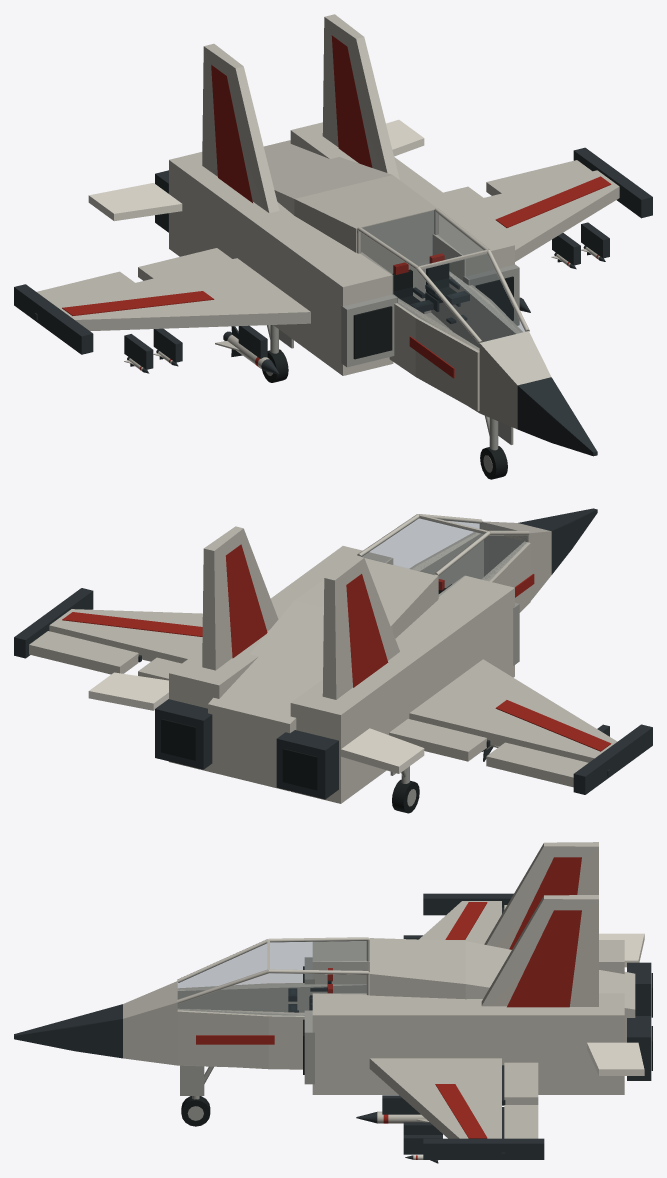
3 renders of one model, top to bottom at view 1: azimuth 30°, elevation 25°; view 2: azimuth 150°, elevation 25°; view 3: azimuth 270°, elevation 25°, orthographic. The views are drawn at different scales.
Parts seen in each view (by area): view 1: jet-c-painted, jet-c-glazing, elevator-left-fleet-armor, breakaway-0-painted, breakaway-1-painted, aileron-right-painted, flap-left-painted, aileron-left-painted, crew-chair-copilot-painted, crew-chair-pilot-painted, elevator-right-fleet-armor, store-left-large-painted (+1 smaller); view 2: jet-c-painted, jet-c-glazing, aileron-right-painted, aileron-left-painted, flap-left-painted, elevator-left-fleet-armor, breakaway-0-painted, elevator-right-fleet-armor, breakaway-1-painted, gear-wheel-left-0-0-painted, flap-right-painted; view 3: jet-c-painted, jet-c-glazing, breakaway-1-painted, elevator-right-fleet-armor, flap-right-painted, aileron-right-painted, breakaway-0-painted, landing-gear-nose-painted, elevator-left-fleet-armor, gear-wheel-nose-0-0-painted, store-right-large-painted.
Part boxes in pixels (x1,y1,x2,y2): jet-c-painted: (52,14,619,456); jet-c-glazing: (361,210,524,349); elevator-left-fleet-armor: (88,183,182,221); breakaway-0-painted: (14,284,93,354); breakaway-1-painted: (573,147,652,218); aileron-right-painted: (486,160,591,195); flap-left-painted: (138,248,232,280); aileron-left-painted: (34,271,134,320); crew-chair-copilot-painted: (425,253,469,323); crew-chair-pilot-painted: (392,262,433,313); elevator-right-fleet-armor: (386,119,424,156); store-left-large-painted: (215,326,279,374); jet-c-painted: (49,508,617,803); jet-c-glazing: (361,517,527,595); aileron-right-painted: (29,631,141,674); aileron-left-painted: (486,742,610,787); flap-left-painted: (389,719,490,761); elevator-left-fleet-armor: (341,728,424,773); breakaway-0-painted: (573,724,652,794); elevator-right-fleet-armor: (88,672,168,710); breakaway-1-painted: (14,588,93,658); gear-wheel-left-0-0-painted: (392,779,419,813); flap-right-painted: (138,657,181,680); jet-c-painted: (14,842,652,1154); jet-c-glazing: (178,940,367,1015); breakaway-1-painted: (423,1138,544,1159); elevator-right-fleet-armor: (587,1042,644,1075); flap-right-painted: (502,1062,538,1105); aileron-right-painted: (501,1105,538,1158); breakaway-0-painted: (423,893,513,915); landing-gear-nose-painted: (180,1065,213,1099); elevator-left-fleet-armor: (599,933,644,967); gear-wheel-nose-0-0-painted: (181,1096,210,1126); store-right-large-painted: (356,1111,429,1123).
Bounding box in the file's own units: 82.21 × 38.67 × 88.42.
